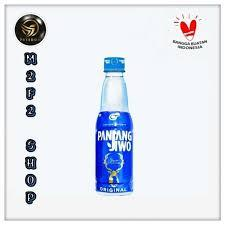BIODEGRADABLE: (73, 43, 148, 208)
